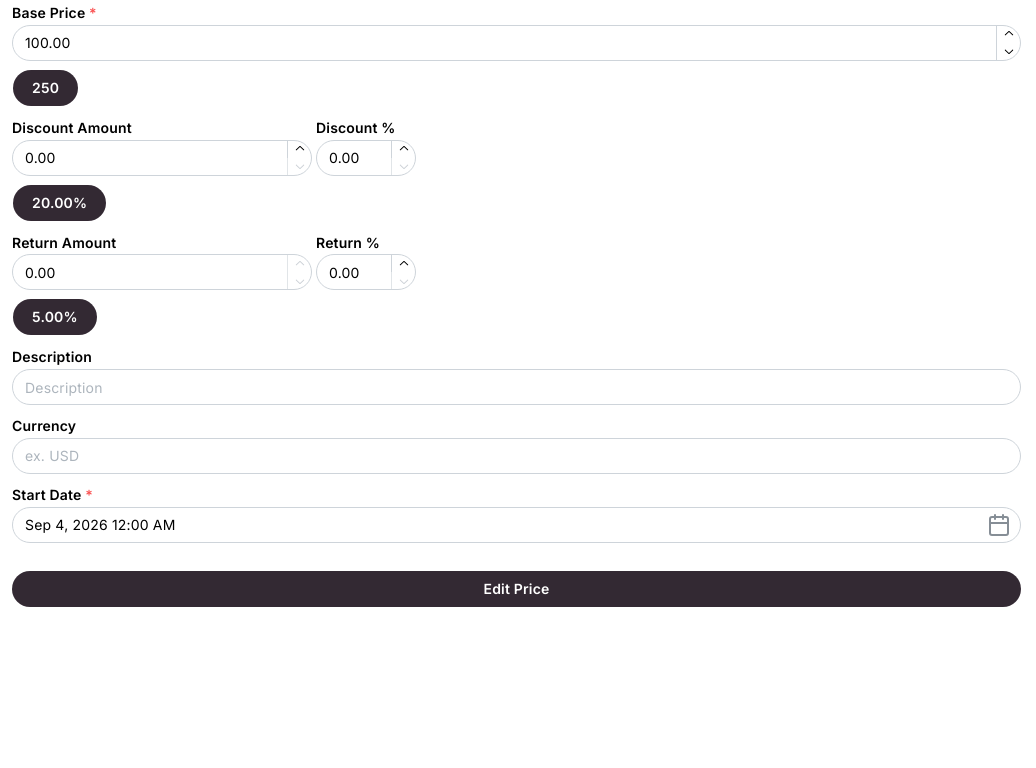
Edit Price Form Component › should fill amounts from the product's recent prices
This screenshot has width=1036, height=768.
Click the button "250".
click(46, 88)  # box top-left (13, 70), bottom-right (78, 106)
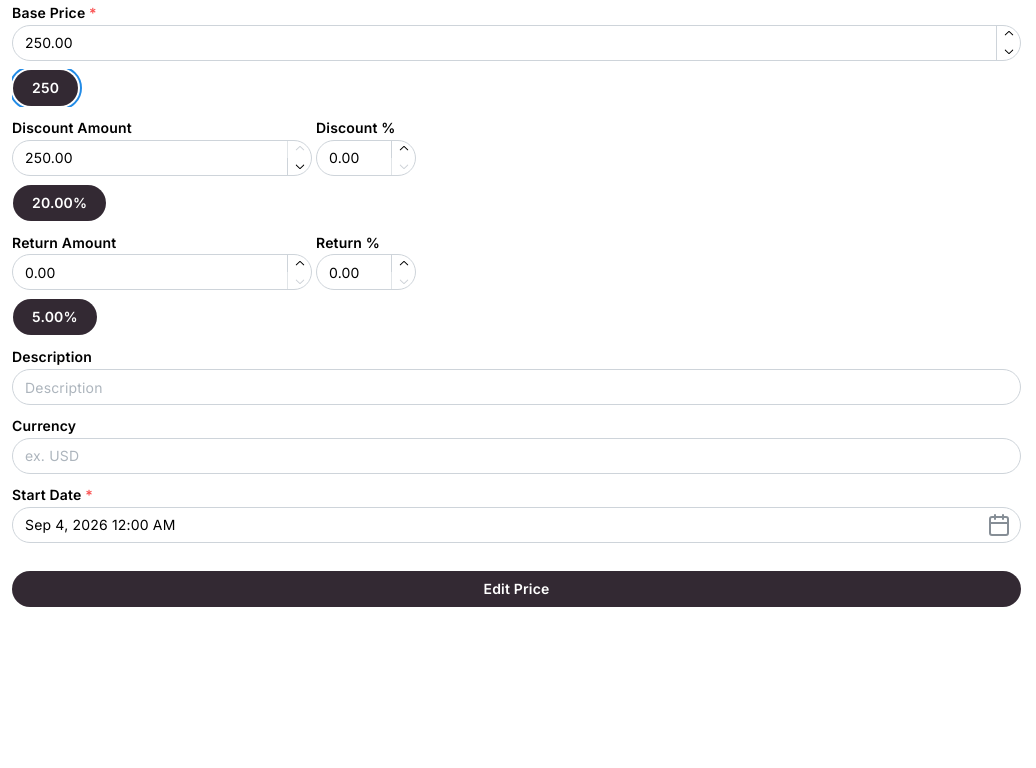
Click the button "20.00%".
click(60, 203)  # box top-left (13, 185), bottom-right (106, 221)
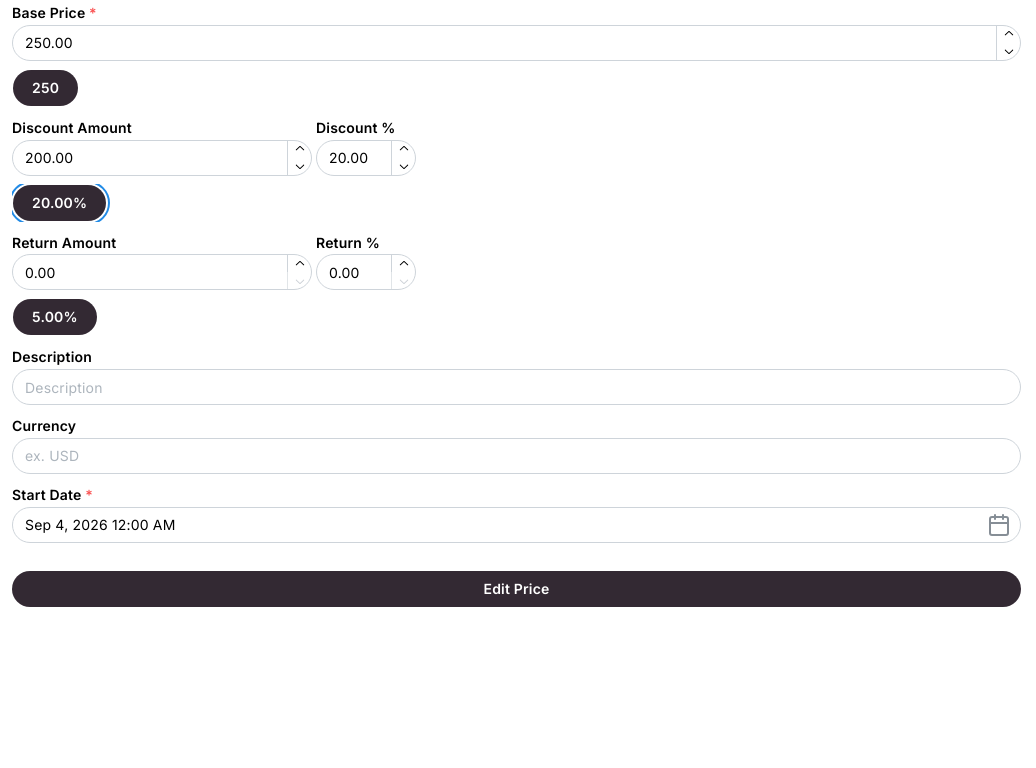
Click the button "5.00%".
click(55, 317)  # box top-left (13, 299), bottom-right (97, 335)
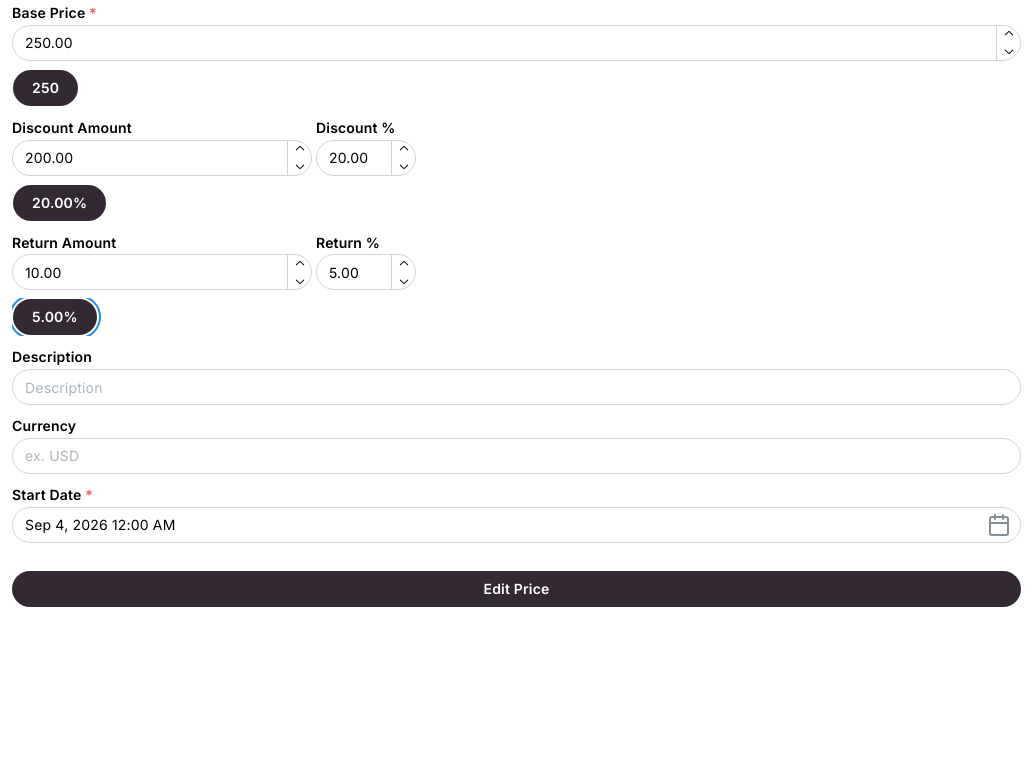
Now the field labelled "Base Price *" holds "250.00", box top-left (12, 25), bottom-right (1021, 61)
Now the field labelled "Discount Amount" holds "200.00", box top-left (12, 140), bottom-right (312, 176)
Now the field labelled "Return Amount" holds "10.00", box top-left (12, 254), bottom-right (312, 290)
